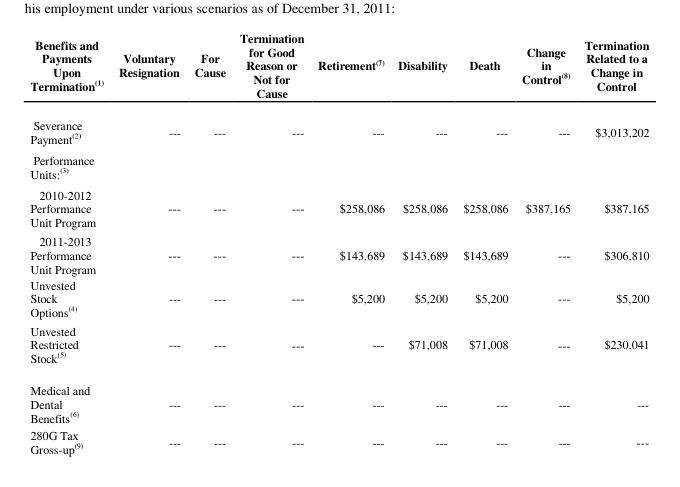table: (29, 29, 648, 456)
table column: (29, 29, 110, 456), (310, 29, 390, 456), (232, 29, 310, 456), (110, 29, 186, 456), (576, 29, 648, 456), (390, 29, 454, 456), (514, 29, 576, 456), (454, 29, 514, 456), (186, 29, 232, 456)
table column header: (29, 29, 648, 108)
table projected row header: (29, 148, 648, 183)
table row: (29, 29, 648, 108), (29, 320, 648, 373), (29, 373, 648, 425), (29, 183, 648, 230), (29, 230, 648, 275), (29, 275, 648, 320), (29, 108, 648, 148), (29, 148, 648, 183), (29, 425, 648, 456)
